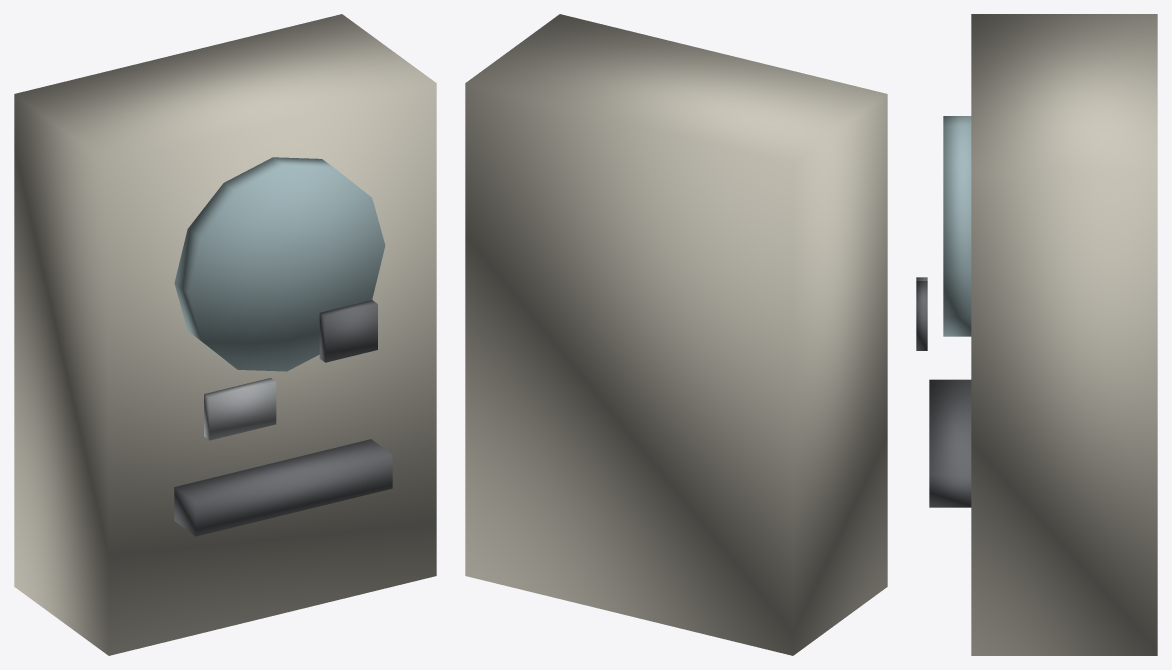
File: factory_time_clock__weathered.glb
3 views of the same model, side by side, from view 1: azimuth 30°, elevation 25°; view 2: azimuth 150°, elevation 25°; view 3: azimuth 270°, elevation 25° (orthographic).
Parts seen in each view (by area): view 1: world; view 2: world; view 3: world.
Part boxes in pixels (x1,y1,x2,y2): world: (14, 14, 436, 655); world: (465, 14, 887, 655); world: (916, 14, 1157, 655).
Size of the model in its own units: 0.4 by 0.5742 by 0.259.
